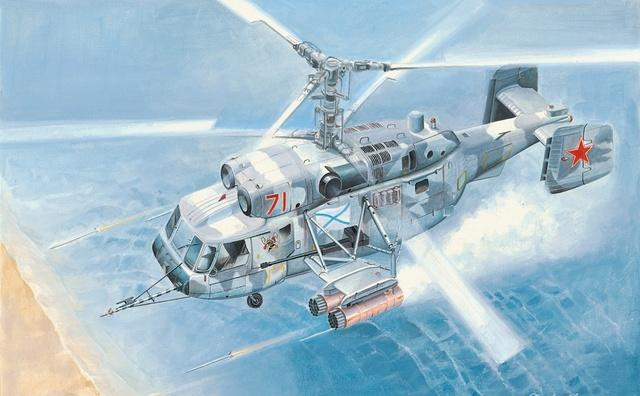airplane: (63, 10, 621, 327)
